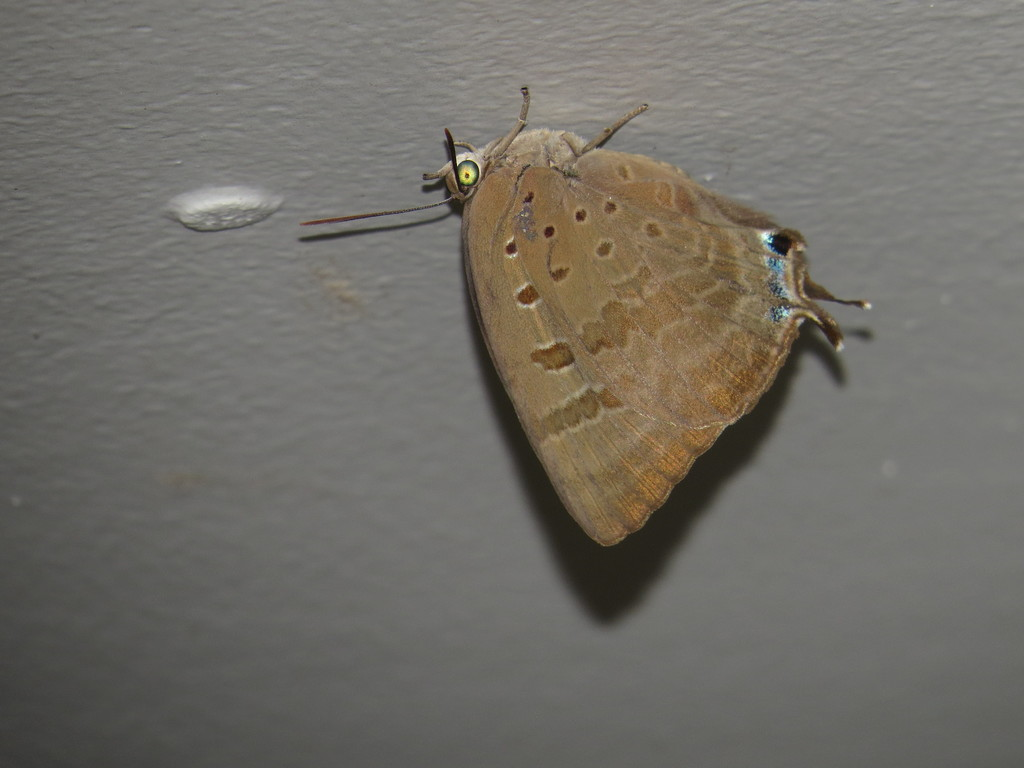Butterfly: (389, 108, 844, 574)
